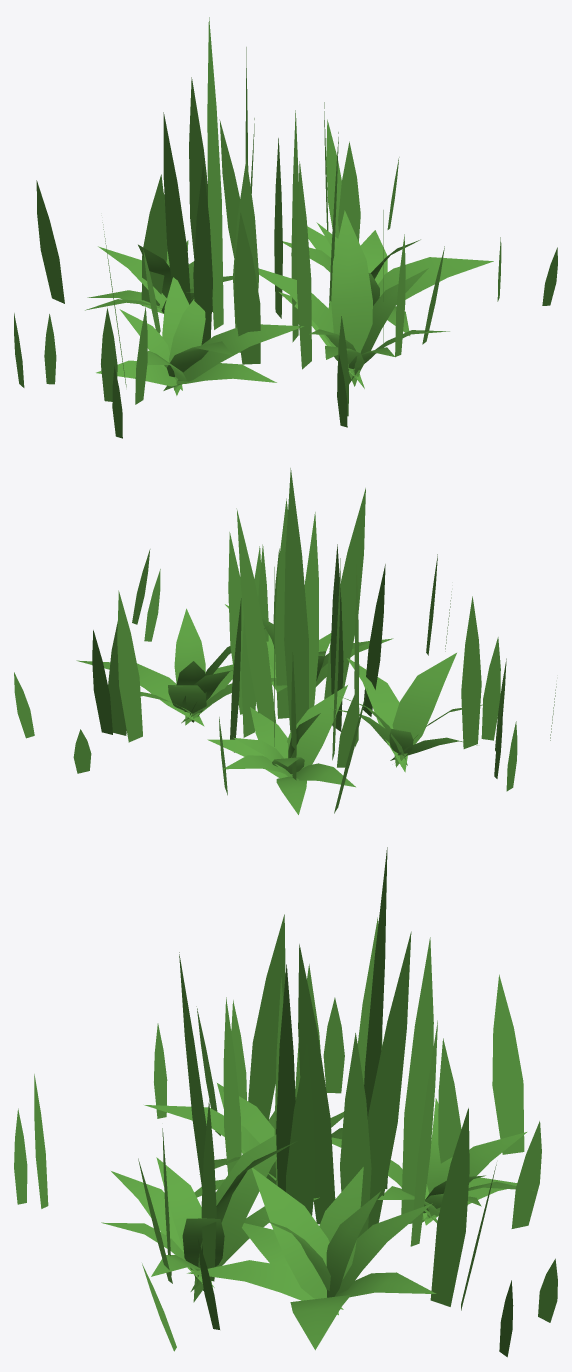
File: deco_Foliage01.fbx
The picture shows the model from 3 angles, top to bottom: view 1: azimuth 30°, elevation 25°; view 2: azimuth 150°, elevation 25°; view 3: azimuth 270°, elevation 25°; orthographic projection. The views are drawn at different scales.
Visible parts, largest first — view 1: deco_Grass01, assets_bush4, assets_bush2, assets_bush1, assets_bush3; view 2: deco_Grass01, assets_bush3, assets_bush4, assets_bush1, assets_bush2; view 3: deco_Grass01, assets_bush1, assets_bush2, assets_bush3, assets_bush4.
Part boxes in pixels (<box>): deco_Grass01: <box>14,17,557,438</box>; assets_bush4: <box>96,277,303,395</box>; assets_bush2: <box>258,210,449,388</box>; assets_bush1: <box>283,222,493,335</box>; assets_bush3: <box>85,240,232,313</box>; deco_Grass01: <box>14,468,556,813</box>; assets_bush3: <box>207,685,355,814</box>; assets_bush4: <box>330,653,489,772</box>; assets_bush1: <box>76,608,276,726</box>; assets_bush2: <box>225,604,393,692</box>; deco_Grass01: <box>14,847,557,1357</box>; assets_bush1: <box>187,1167,436,1350</box>; assets_bush2: <box>101,1135,319,1302</box>; assets_bush3: <box>331,1098,535,1225</box>; assets_bush4: <box>144,1083,343,1197</box>.
Bounding box in the file's own units: 1005 × 683 × 817.
